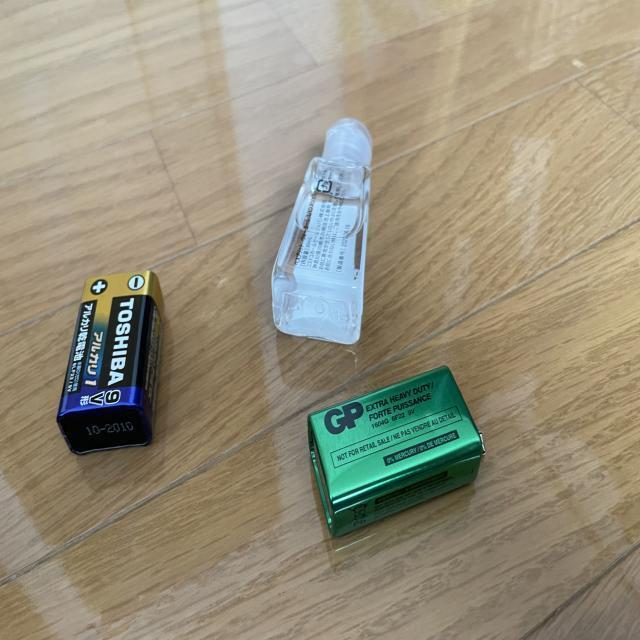9V: (307, 367, 485, 535), (56, 268, 162, 453)
